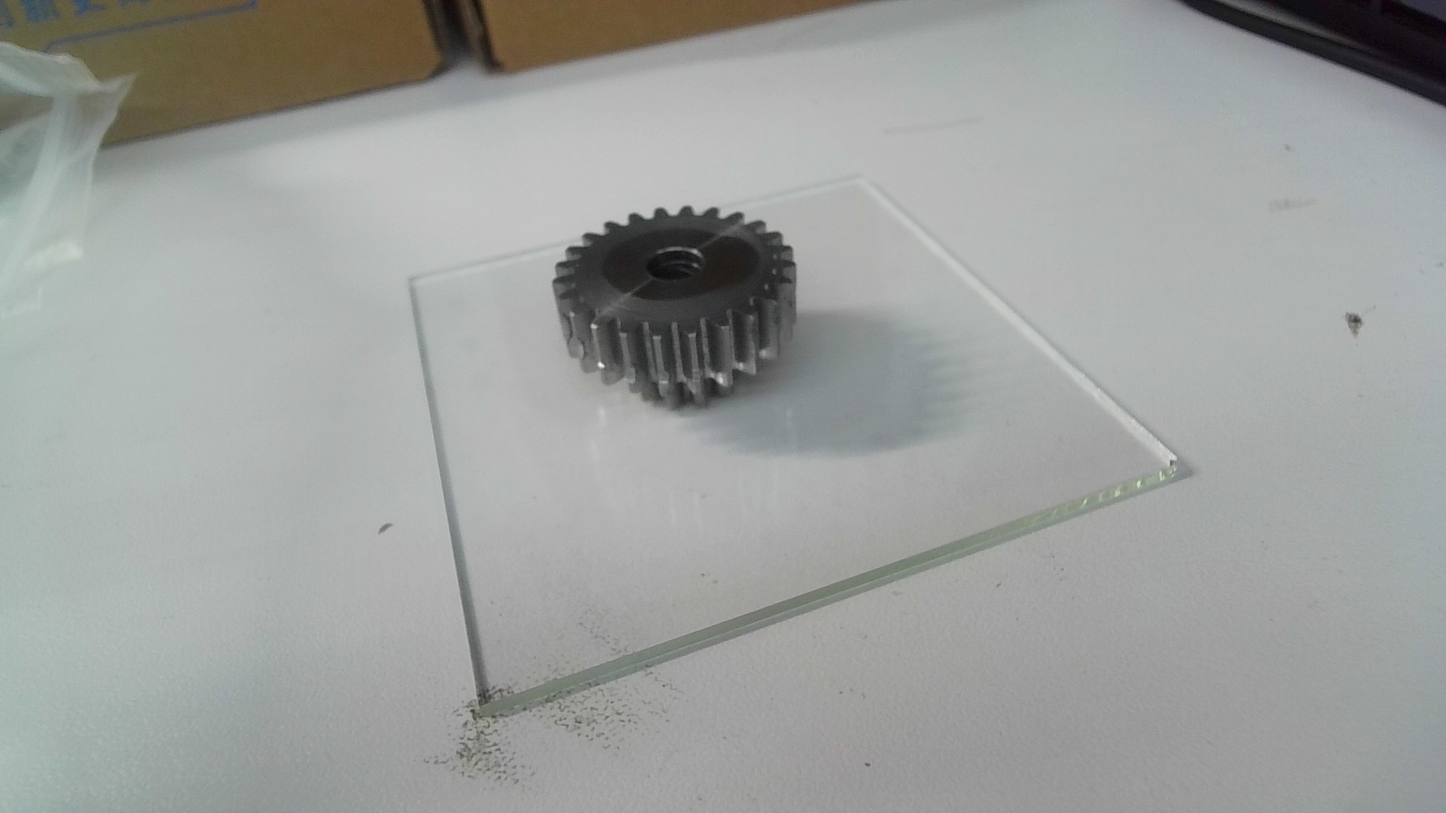gear: (548, 204, 799, 413)
